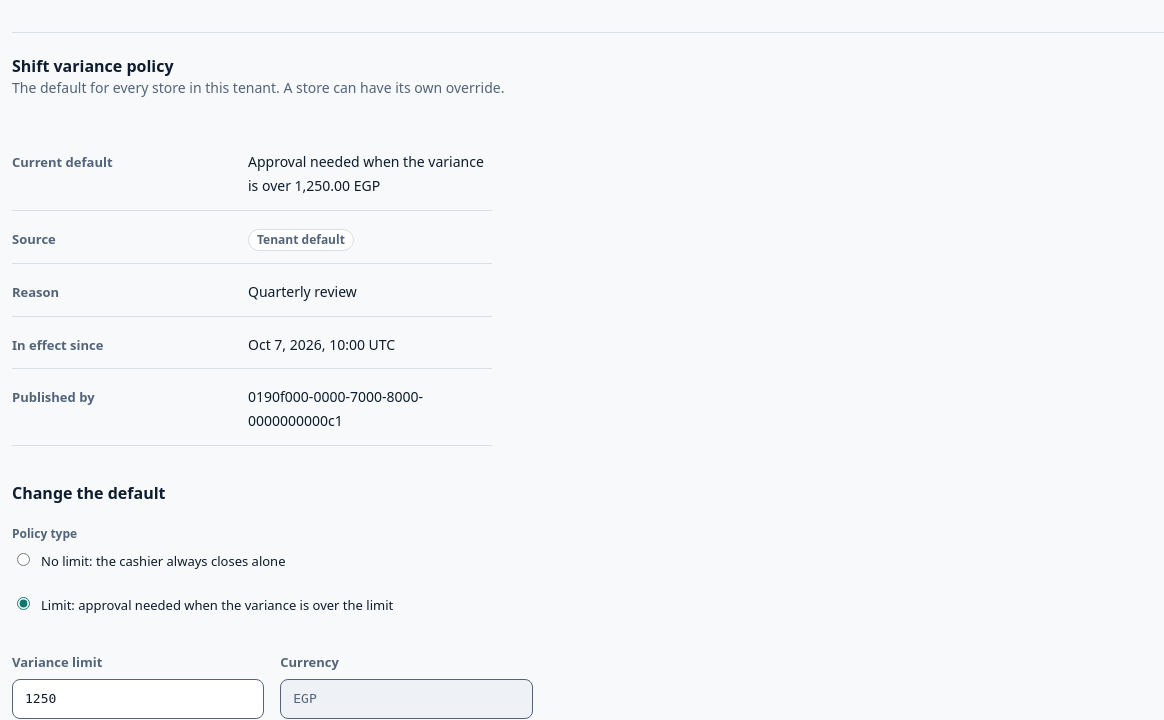
Test case: TenantPolicySection › Apply Now sends only contract fields with the read's latestRevisionId and an idempotency key
This screenshot has width=1164, height=720.
Replace the text in the field labelled "Variance limit" with "800.50": point(138, 699) [12, 679, 264, 719]
(page scrolled)
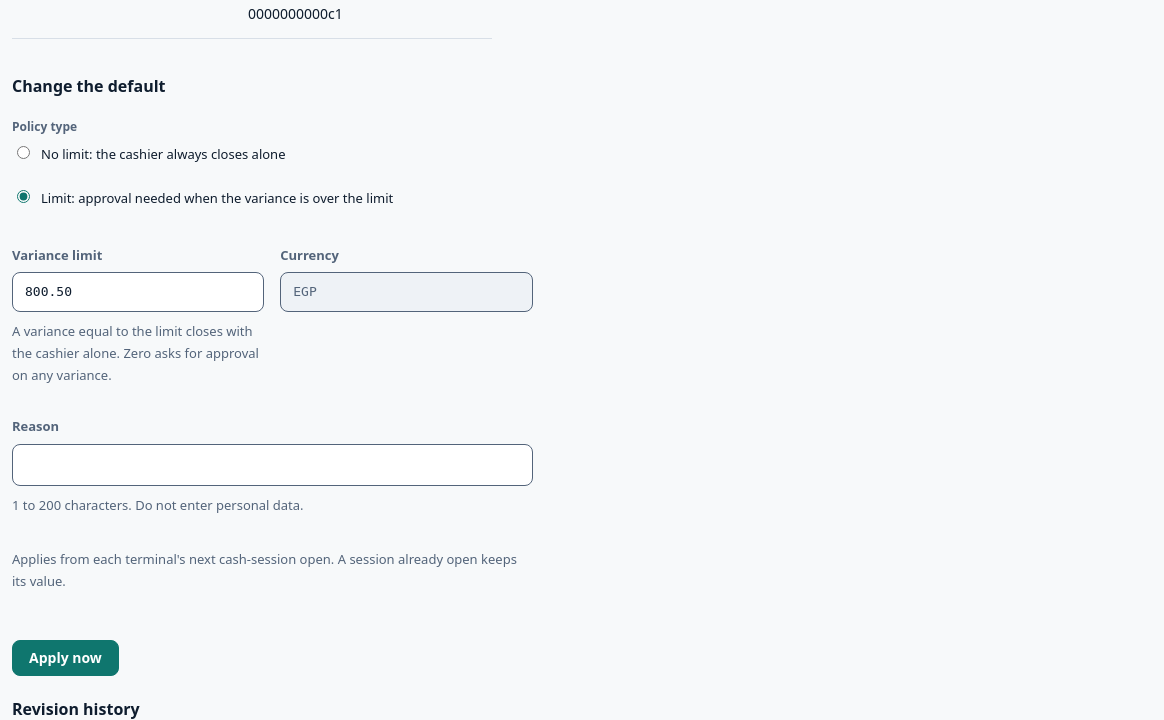
In the field labelled "Reason": point(272, 465) [12, 444, 532, 486], type "  Tighten  "
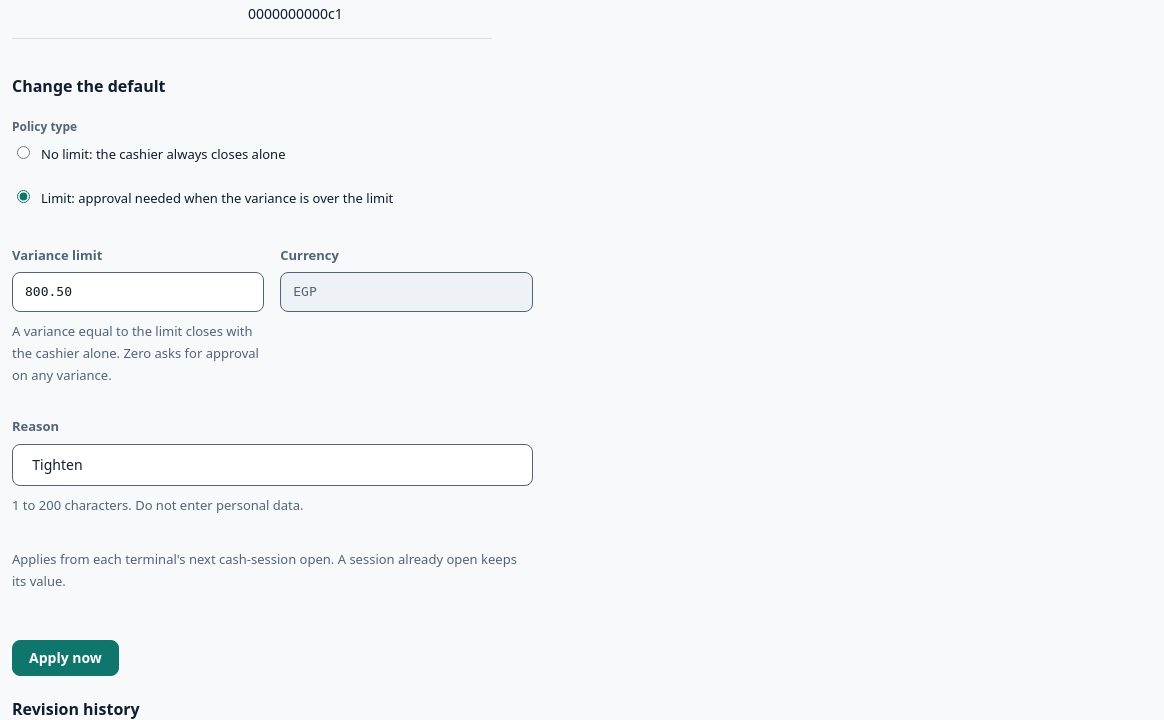
Click the button "Apply now": point(65, 658) [12, 640, 119, 676]
(page scrolled)
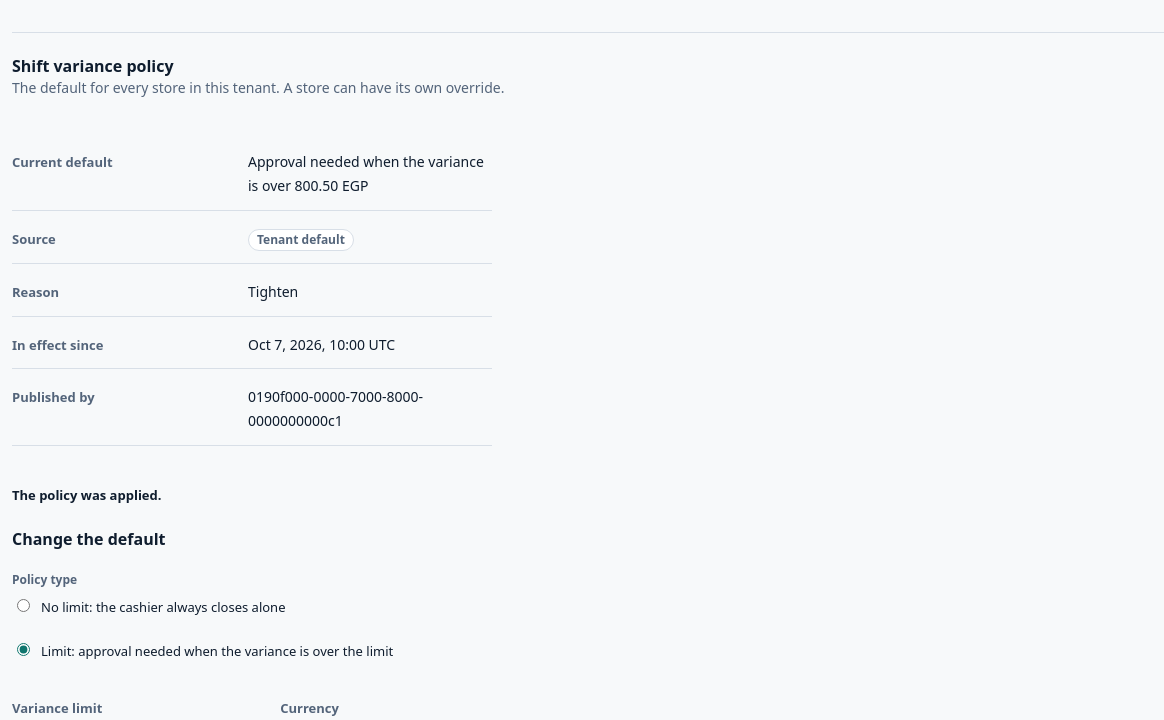
Expected: the text "The policy was applied." is shown, [12, 486, 162, 504]
Expected: the text "Current default" shows "800.50 EGP", [295, 176, 368, 195]
